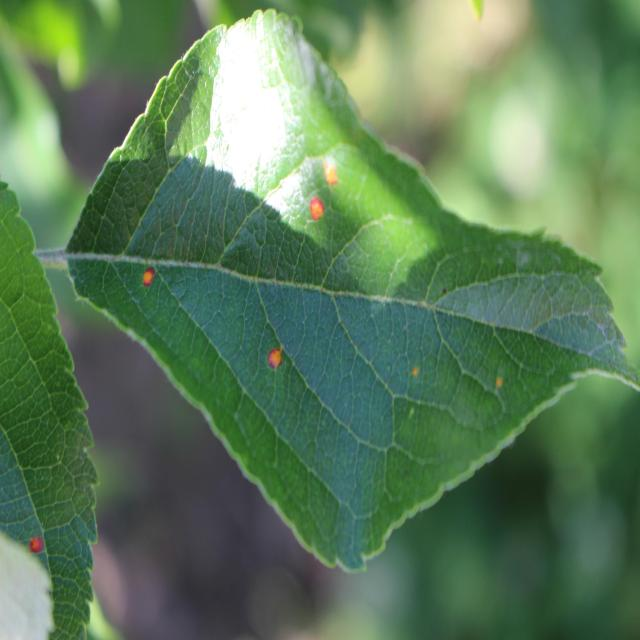Rust: (19, 508, 60, 582), (299, 178, 334, 248), (260, 328, 298, 387), (135, 258, 161, 314), (323, 147, 344, 200), (486, 366, 512, 408), (410, 344, 425, 390)
